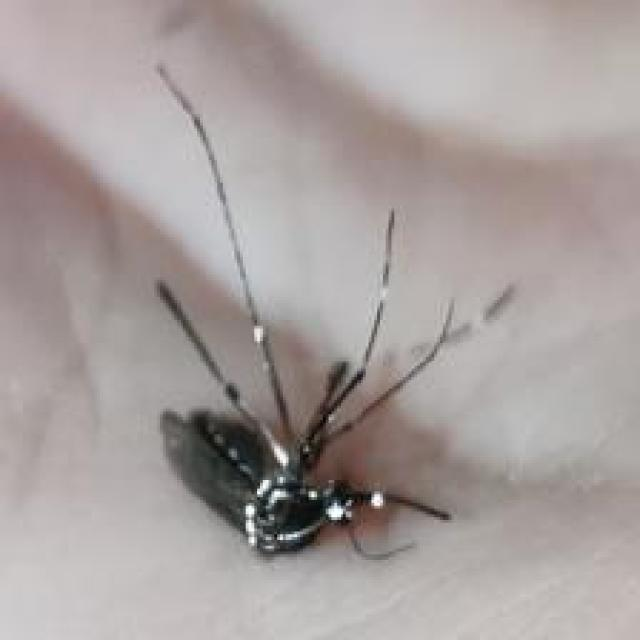Aedes albopictus: (150, 59, 516, 562)
